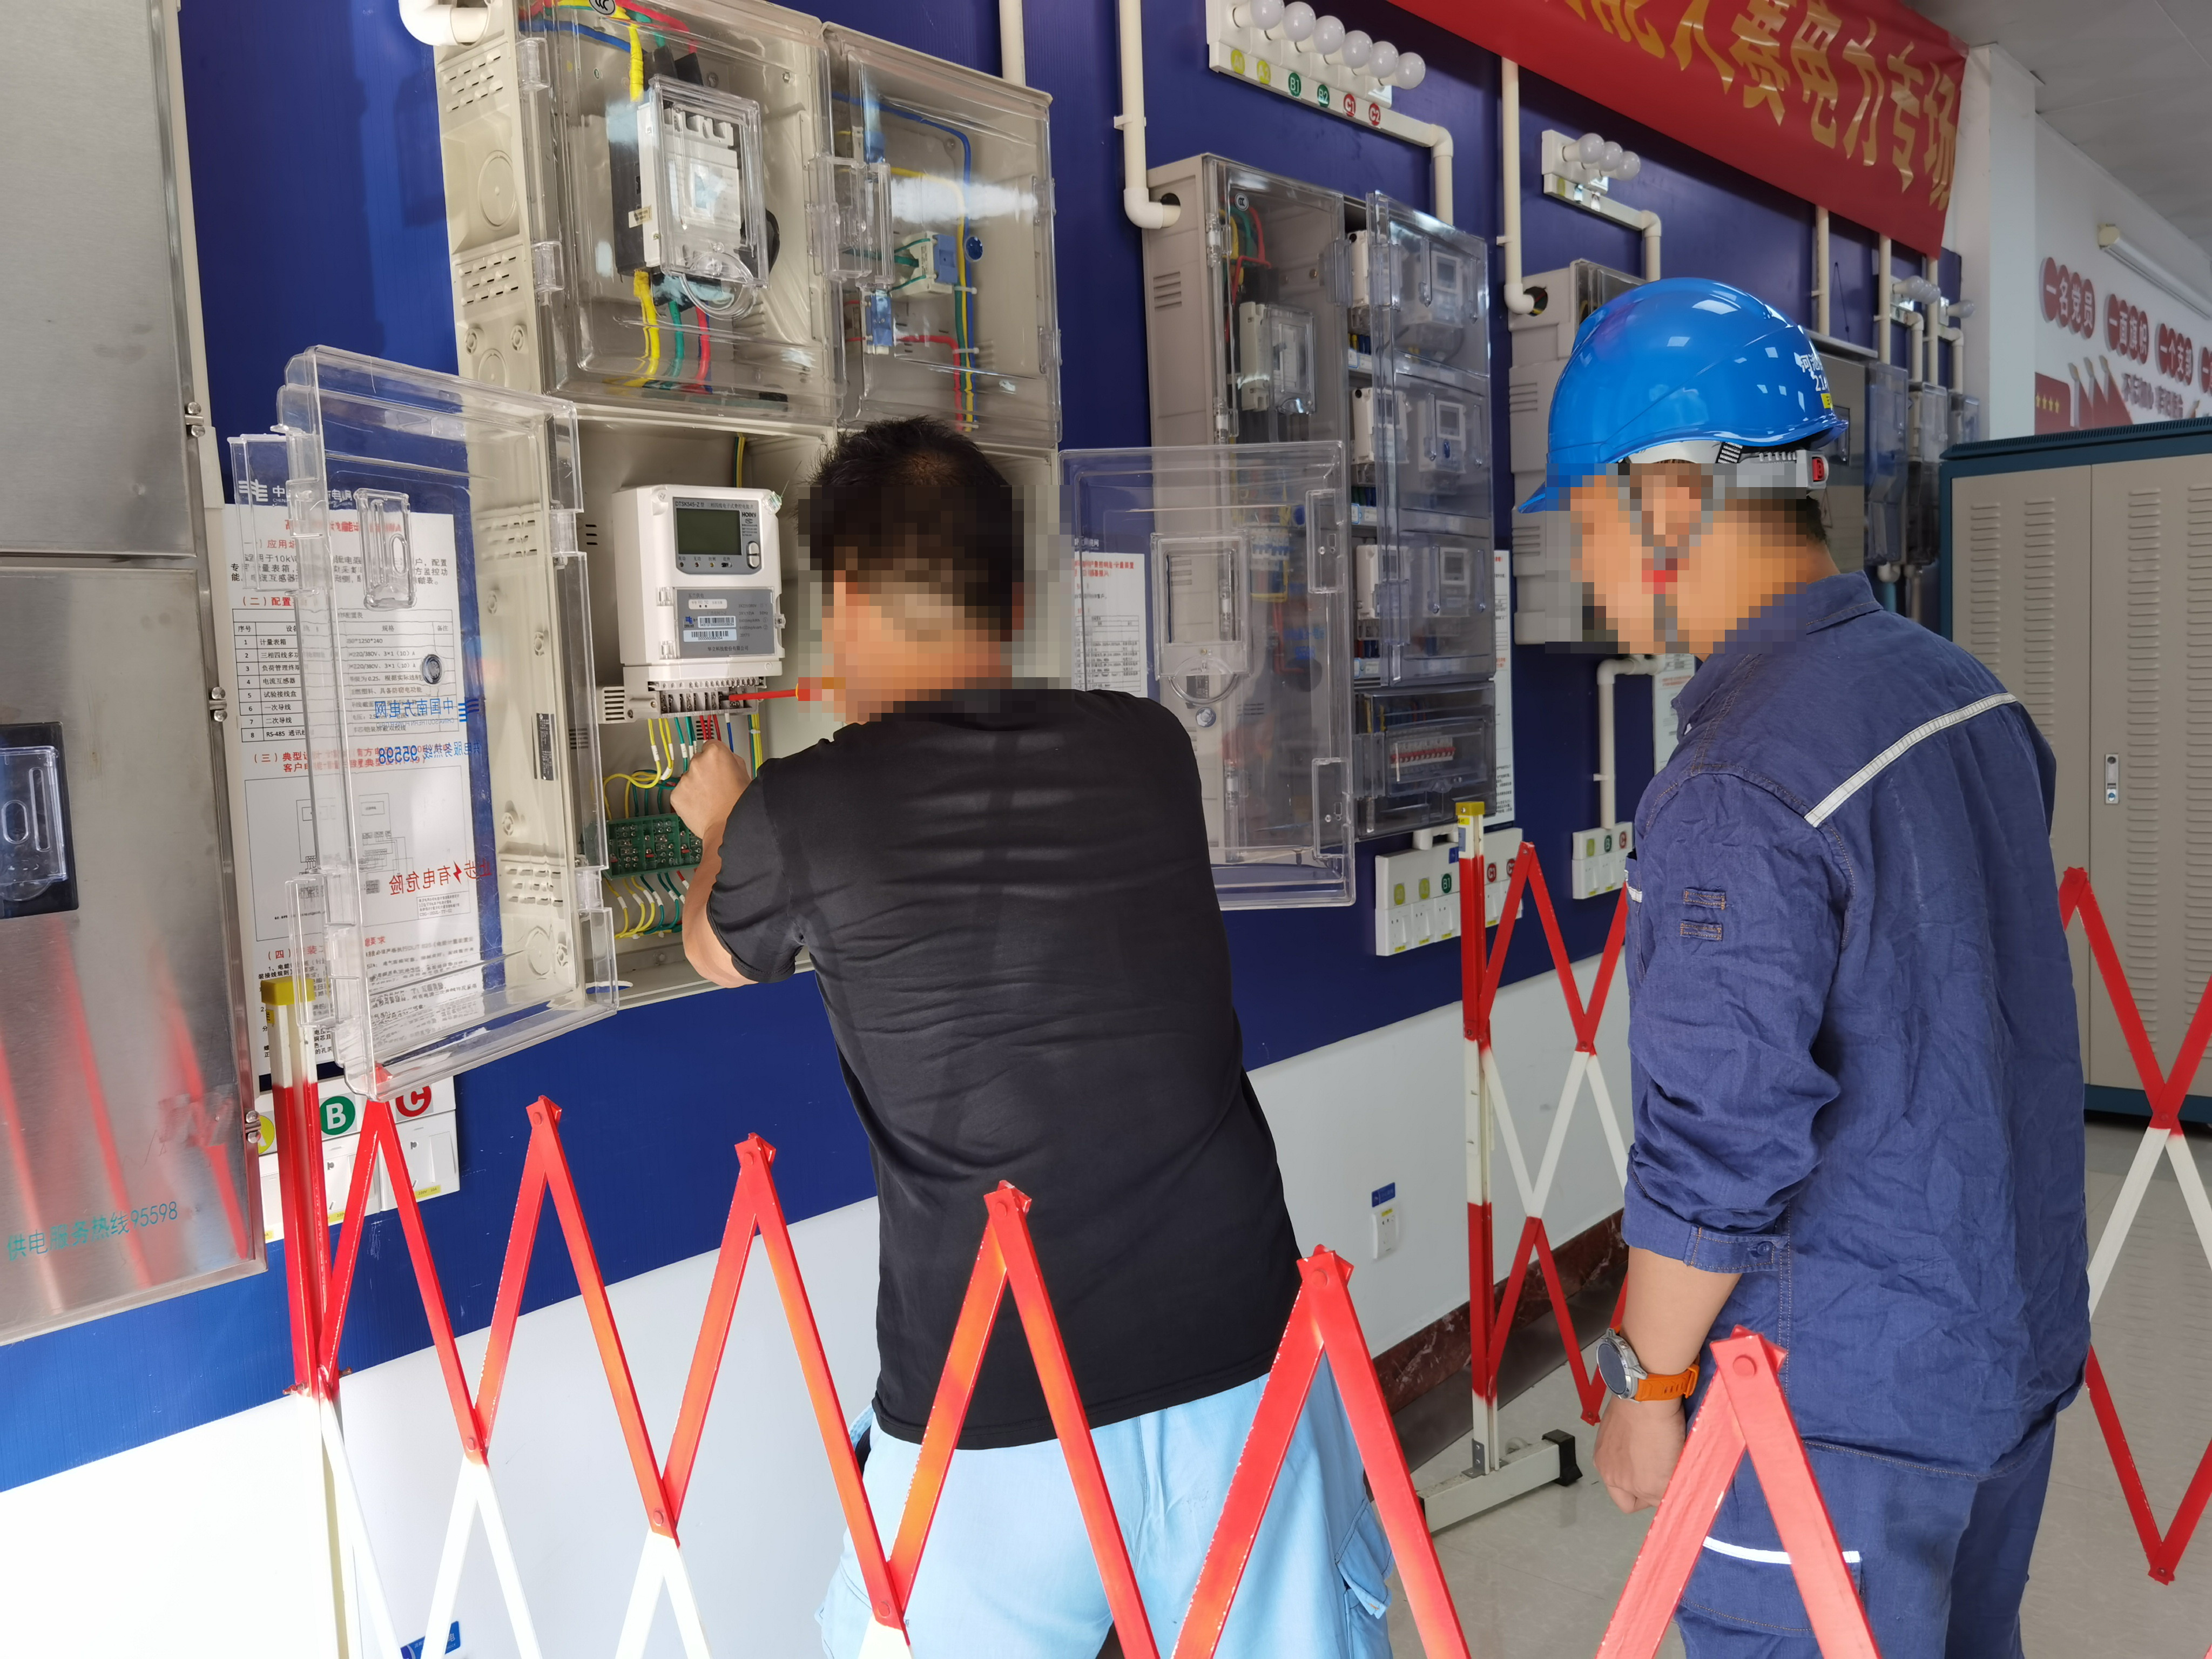downcloth: (811, 1441, 1407, 1659)
halt: (1538, 272, 1871, 670)
hand: (1591, 1390, 1686, 1517), (664, 744, 750, 836)
inear: (1599, 455, 1739, 655)
noear: (811, 545, 895, 682)
person: (661, 404, 1387, 1659), (1523, 264, 2141, 1659)
unhalt: (796, 421, 1036, 693)
upcloth: (681, 678, 1314, 1397)
upsuit: (1575, 575, 2113, 1386)
wrongtop: (1587, 1107, 1802, 1519)
